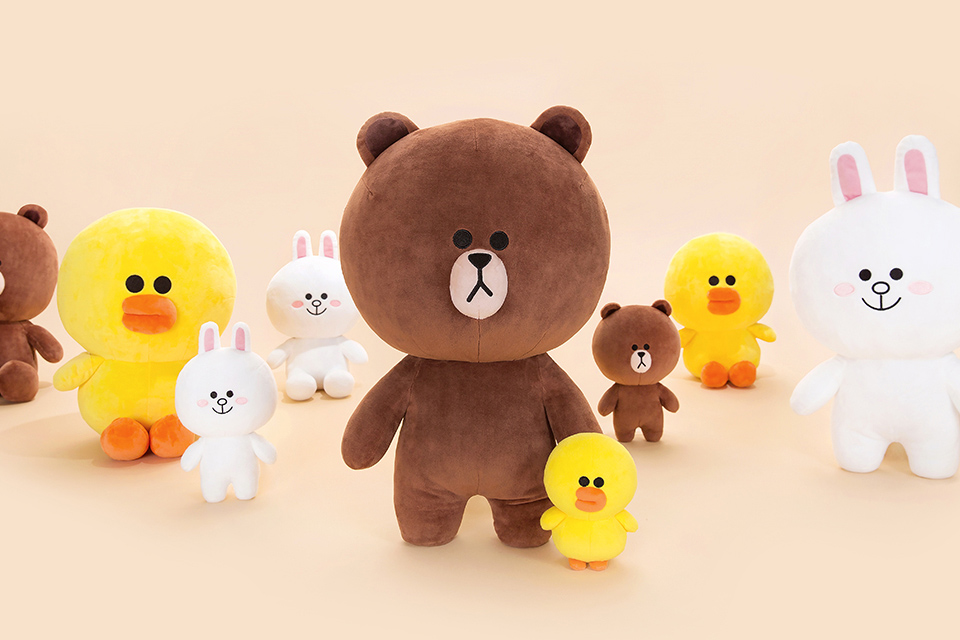line_brown: (332, 102, 617, 366), (589, 297, 686, 387)
